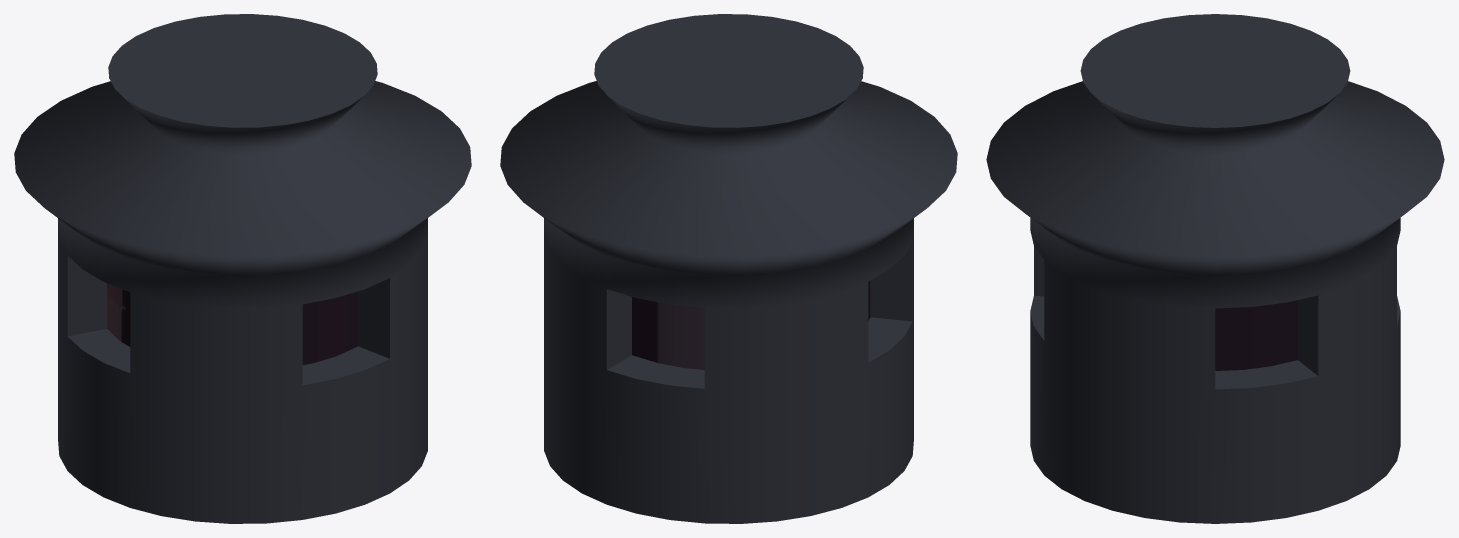
The model's file is alienShipStatic.fbx.
3 views of the same model, side by side, from view 1: azimuth 30°, elevation 25°; view 2: azimuth 150°, elevation 25°; view 3: azimuth 270°, elevation 25° (orthographic).
Visible parts, largest first — view 1: Cylinder.001; view 2: Cylinder.001; view 3: Cylinder.001.
Part boxes in pixels (x1,y1,x2,y2): Cylinder.001: (14,14,471,523); Cylinder.001: (500,14,957,523); Cylinder.001: (986,14,1444,523).
Bounding box in the file's own units: 11.35 × 10.24 × 11.35.
